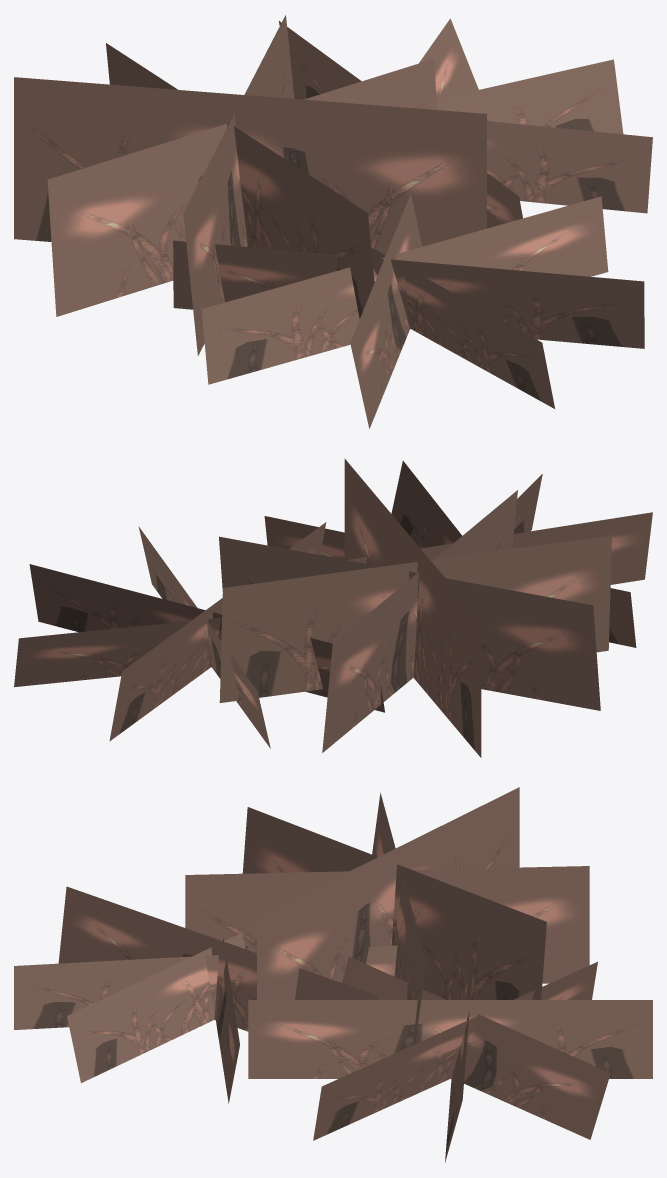
File: Grass_DM_01.fbx
3 renders of one model, top to bottom at view 1: azimuth 30°, elevation 25°; view 2: azimuth 150°, elevation 25°; view 3: azimuth 270°, elevation 25°, orthographic. The views are drawn at different scales.
Visible parts, largest first — view 1: Grass_DM_01; view 2: Grass_DM_01; view 3: Grass_DM_01.
Part boxes in pixels (x1=…): Grass_DM_01: x1=14, y1=15, x2=652, y2=428; Grass_DM_01: x1=14, y1=459, x2=652, y2=757; Grass_DM_01: x1=14, y1=787, x2=652, y2=1162.
Bounding box in the file's own units: 176 × 47.04 × 188.
